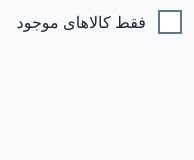
Test: selection controls › toggles a labelled checkbox
Click the text "فقط کالاهای موجود": {"x": 81, "y": 22} [16,8,146,36]
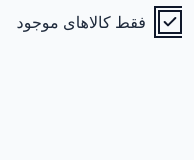
Now the checkbox named "فقط کالاهای موجود" is checked, box [158,10,182,34]
